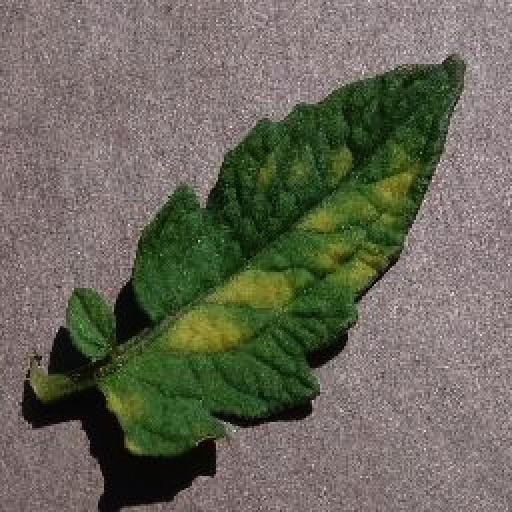disease_tomato: (96, 52, 470, 458)
